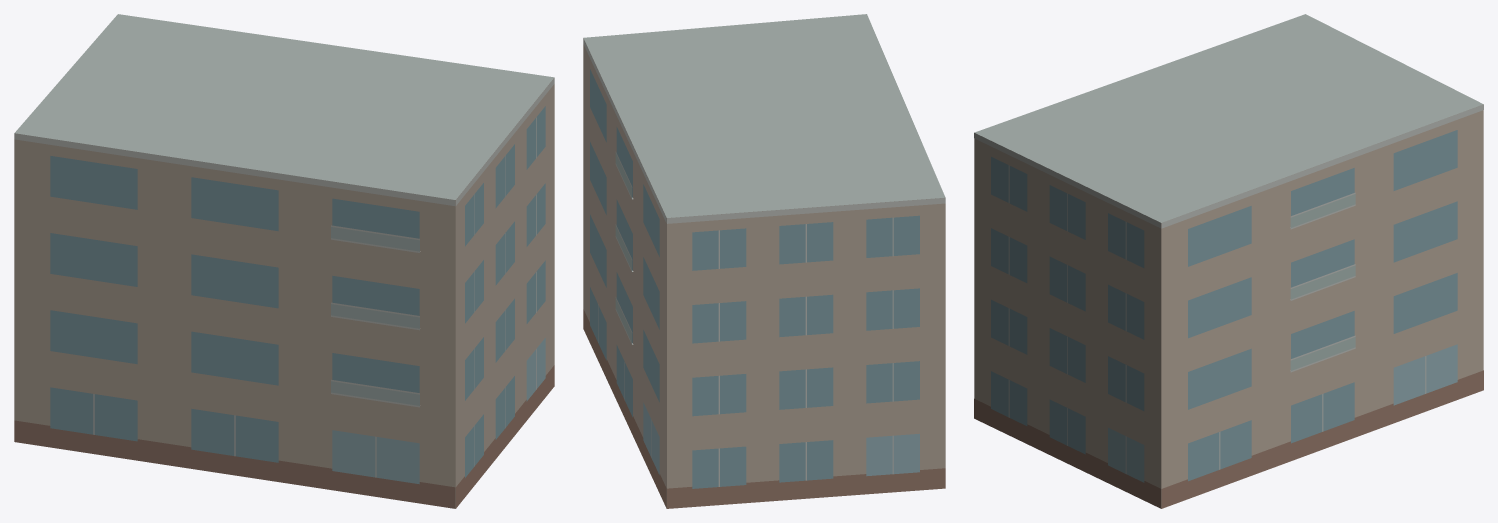
File: survey-upis-32907490.glb
3 views of the same model, side by side, from view 1: azimuth 30°, elevation 25°; view 2: azimuth 150°, elevation 25°; view 3: azimuth 270°, elevation 25° (orthographic). The views are drawn at different scales.
Parts seen in each view (by area): view 1: survey-upis-32907490.tmp; view 2: survey-upis-32907490.tmp; view 3: survey-upis-32907490.tmp.
Boxes of the visible parts, box(x1,y1,x2,y2) form: survey-upis-32907490.tmp: box(14, 14, 554, 508); survey-upis-32907490.tmp: box(583, 14, 945, 508); survey-upis-32907490.tmp: box(974, 14, 1483, 508).
Size of the model in its own units: 19.13 by 12.2 by 19.71.
